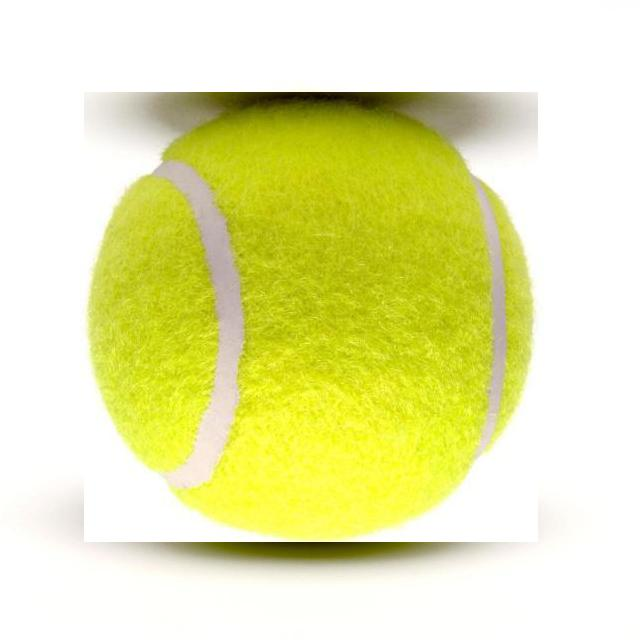tennis ball: (84, 92, 538, 542)
